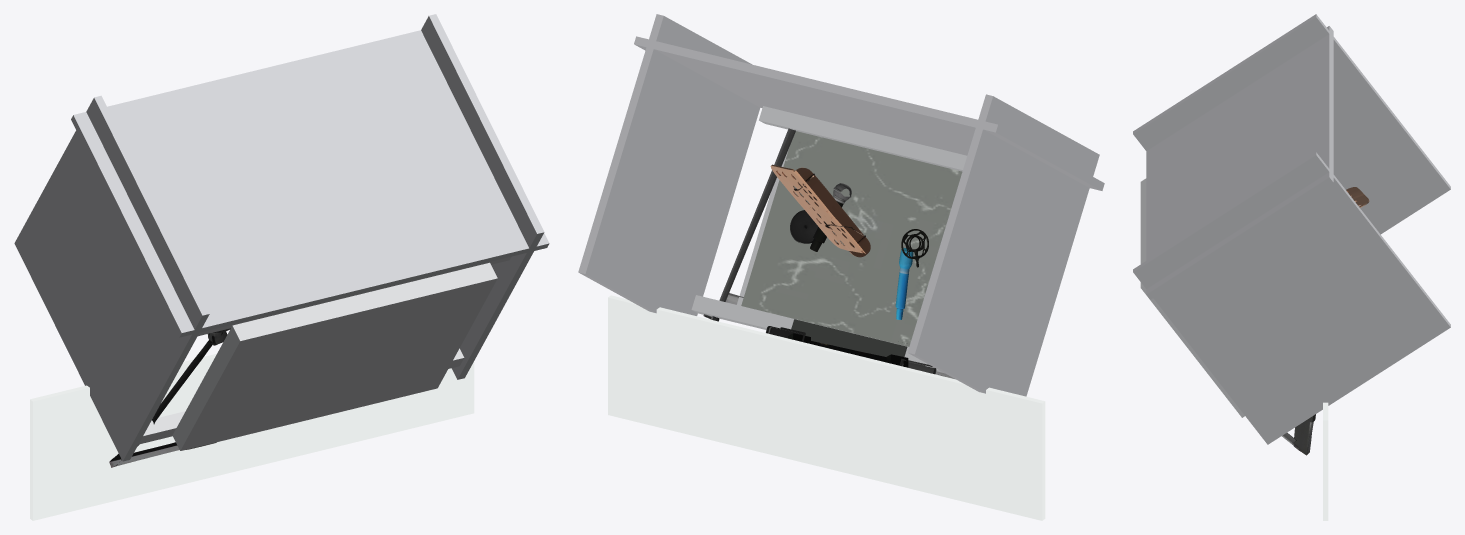
Rendered from viga.glb.
3 renders of one model, left to right at view 1: azimuth 30°, elevation 25°; view 2: azimuth 150°, elevation 25°; view 3: azimuth 270°, elevation 25°, orthographic. The views are drawn at different scales.
Parts seen in each view (by area): view 1: ENV_wall_back, ENV_wall_right, ENV_table_base, ENV_frost_panel, ENV_wall_left, ENV_rail_near, aluminum_right_rail_mesh, aluminum_table_frame_mesh; view 2: ENV_frost_panel, ENV_wall_right, ENV_wall_left, ENV_marble_top, ENV_wall_back, ENV_rail_far, peach_music_stand_mesh, ENV_rail_near, ENV_bracket_bar, aluminum_left_rail_mesh, black_metal_bracket_mesh, blue_toy_microphone_mesh (+2 smaller); view 3: ENV_wall_left, ENV_wall_back, ENV_wall_right, ENV_table_base, ENV_frost_panel, aluminum_table_frame_mesh.
Boxes of the visible parts, x1,y1,x2,y2 form: ENV_wall_back: [71, 30, 549, 337]; ENV_wall_right: [14, 95, 209, 461]; ENV_table_base: [172, 262, 497, 450]; ENV_frost_panel: [30, 353, 474, 520]; ENV_wall_left: [421, 14, 544, 379]; ENV_rail_near: [138, 348, 464, 444]; aluminum_right_rail_mesh: [152, 328, 230, 424]; aluminum_table_frame_mesh: [109, 442, 216, 467]; ENV_frost_panel: [608, 295, 1045, 520]; ENV_wall_right: [907, 94, 1099, 396]; ENV_wall_left: [578, 14, 759, 315]; ENV_marble_top: [741, 131, 962, 346]; ENV_wall_back: [634, 36, 1104, 190]; ENV_rail_far: [759, 106, 966, 171]; peach_music_stand_mesh: [770, 164, 870, 257]; ENV_rail_near: [691, 295, 944, 373]; ENV_bracket_bar: [791, 319, 907, 356]; aluminum_left_rail_mesh: [703, 128, 795, 321]; black_metal_bracket_mesh: [788, 333, 908, 367]; blue_toy_microphone_mesh: [895, 248, 913, 319]; ENV_wall_left: [1133, 152, 1450, 444]; ENV_wall_back: [1146, 26, 1333, 299]; ENV_wall_right: [1133, 14, 1450, 234]; ENV_table_base: [1140, 178, 1244, 417]; ENV_frost_panel: [1323, 402, 1328, 520]; aluminum_table_frame_mesh: [1282, 414, 1315, 455].
Size of the model in its own units: 2.4 by 2.14 by 1.77.
Materials: 16 (12 with a texture image).
